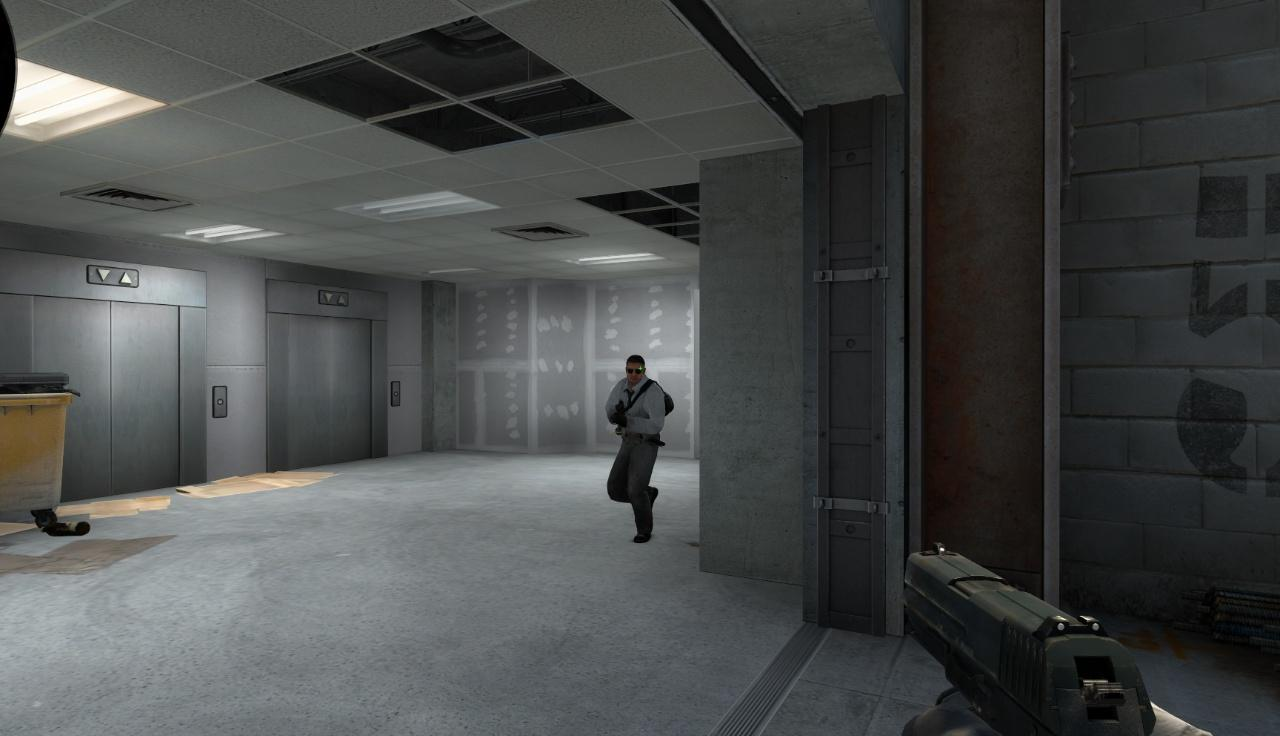pistol: (902, 545, 1157, 736)
tt: (608, 354, 659, 538)
tthead: (627, 355, 643, 383)
